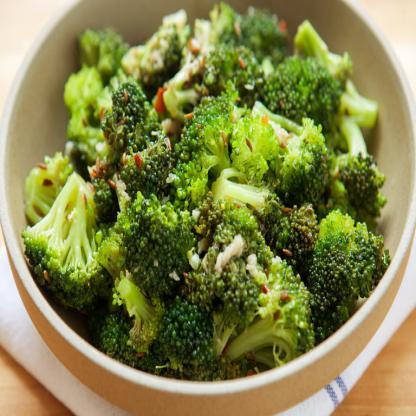broccoli: (19, 3, 390, 384)
